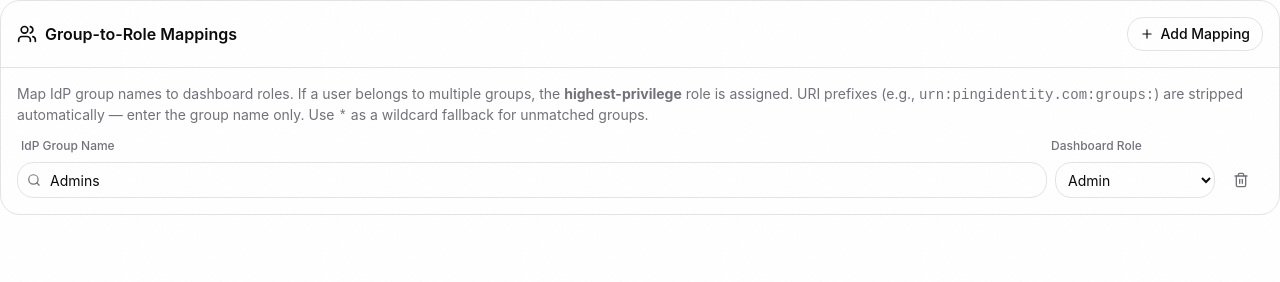
GroupRoleMappingEditor › merges discovered groups with existing rows, deduping by name
Focus the dropdown with test id "mapping-group-0" at {"x": 532, "y": 180}, box [17,162,1047,198]
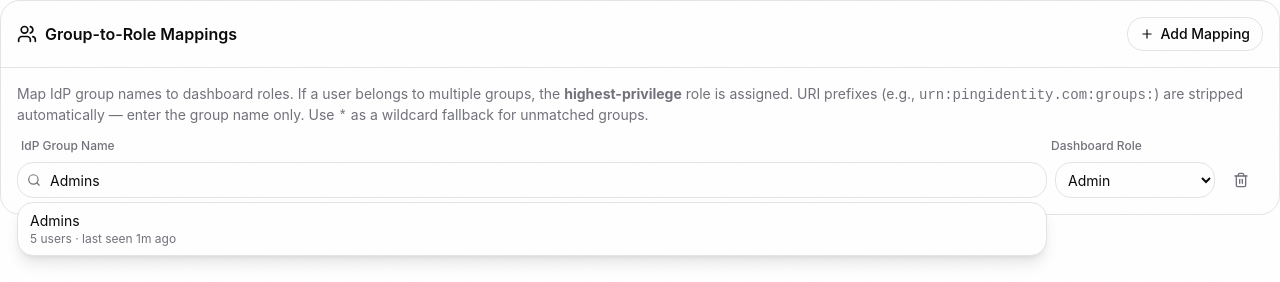
Expected: the text "5 users · last seen 1m ago" is shown, [30,231,176,246]
